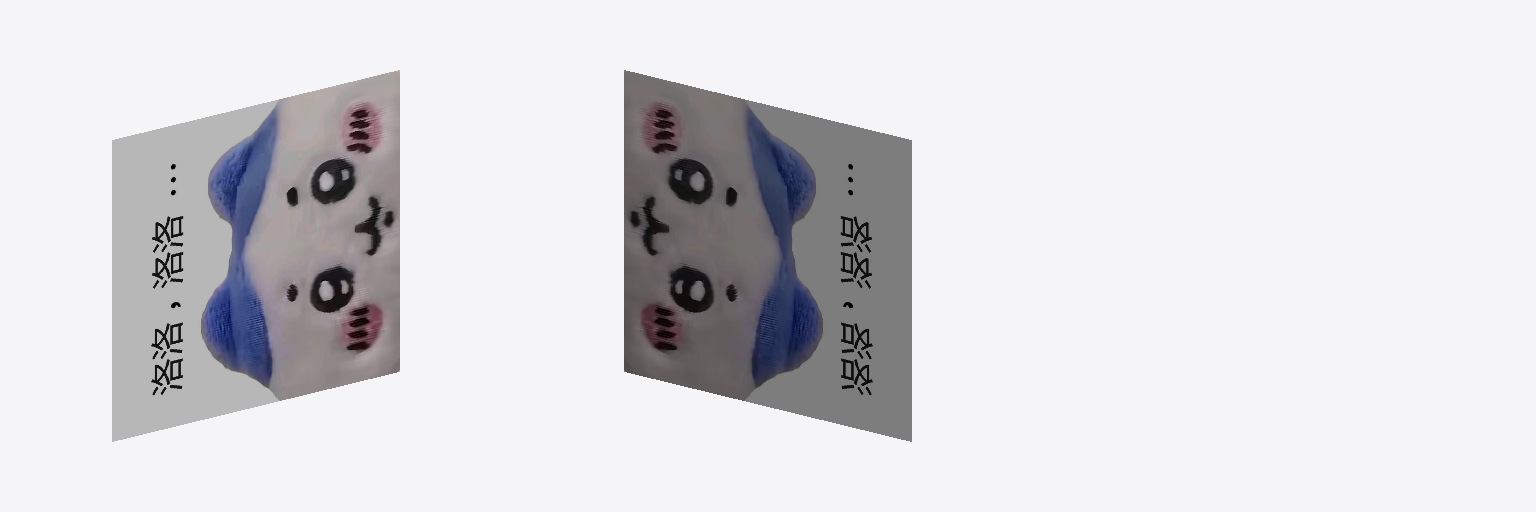
3 views of the same model, side by side, from view 1: azimuth 30°, elevation 25°; view 2: azimuth 150°, elevation 25°; view 3: azimuth 270°, elevation 25° (orthographic).
Visible parts, largest first — view 1: 平面; view 2: 平面; view 3: none.
Part boxes in pixels (x1,y1,x2,y2): 平面: (112,70,399,441); 平面: (624,70,911,441).
Size of the model in its own units: 2 by 2 by 0.
1 materials, 1 textured.